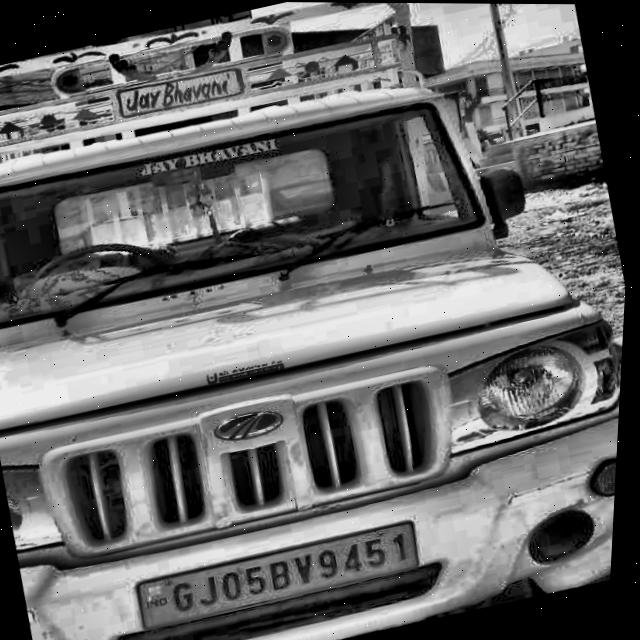light_vehicle: (0, 23, 639, 640)
